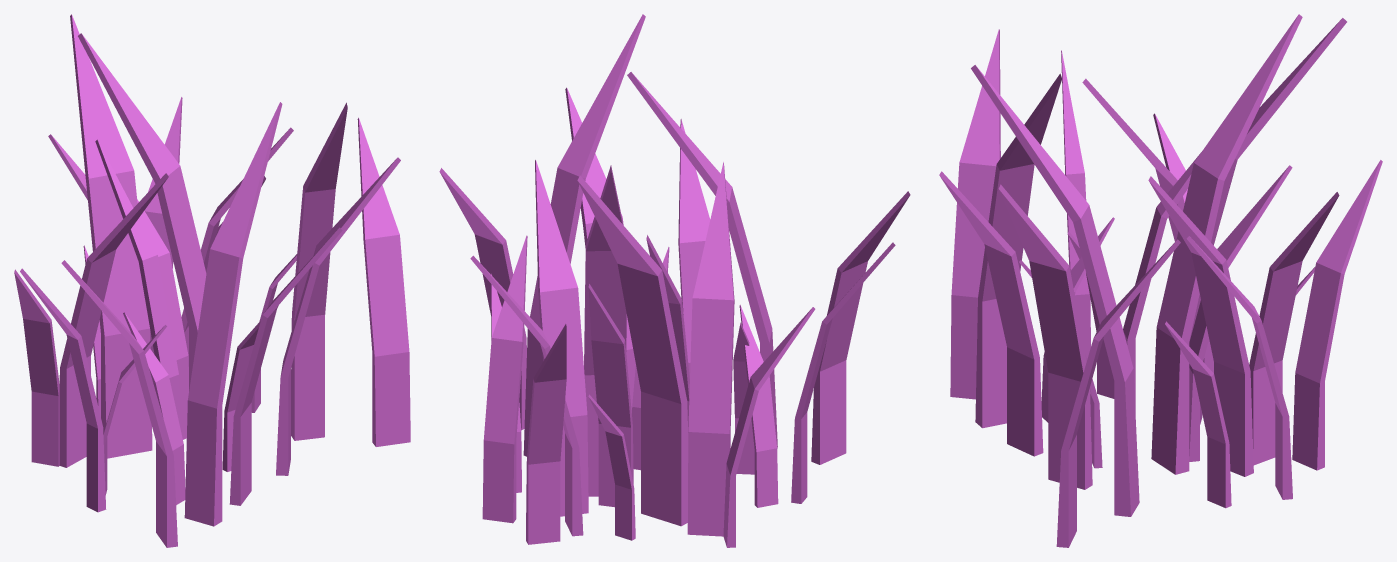
Rendered from NC_Plant05.fbx.
3 renders of one model, left to right at view 1: azimuth 30°, elevation 25°; view 2: azimuth 150°, elevation 25°; view 3: azimuth 270°, elevation 25°, orthographic. The views are drawn at different scales.
Parts seen in each view (by area): view 1: NC_Plant05; view 2: NC_Plant05; view 3: NC_Plant05.
Part boxes in pixels (box(x1,y1,x2,y2)): NC_Plant05: box(14, 14, 410, 547); NC_Plant05: box(439, 14, 910, 547); NC_Plant05: box(939, 14, 1382, 547).
Size of the model in its own units: 21.53 by 20.38 by 19.14.
1 material, 1 textured.
